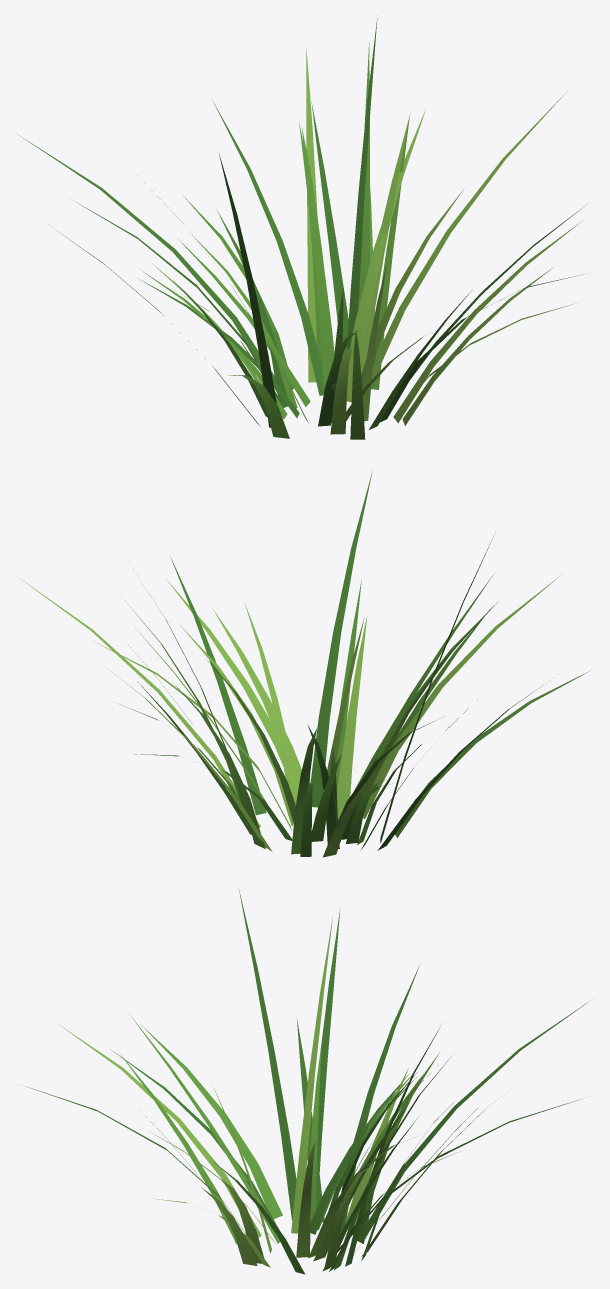
File: grass-tall-a.glb
3 views of the same model, one above another, from view 1: azimuth 30°, elevation 25°; view 2: azimuth 150°, elevation 25°; view 3: azimuth 270°, elevation 25° (orthographic). The views are drawn at different scales.
Parts seen in each view (by area): view 1: grass-tall-a; view 2: grass-tall-a; view 3: grass-tall-a.
Part boxes in pixels (<box>): grass-tall-a: <box>19,15,586,439</box>; grass-tall-a: <box>17,471,591,857</box>; grass-tall-a: <box>26,888,590,1274</box>.
Size of the model in its own units: 0.9178 by 0.52 by 0.9338.
